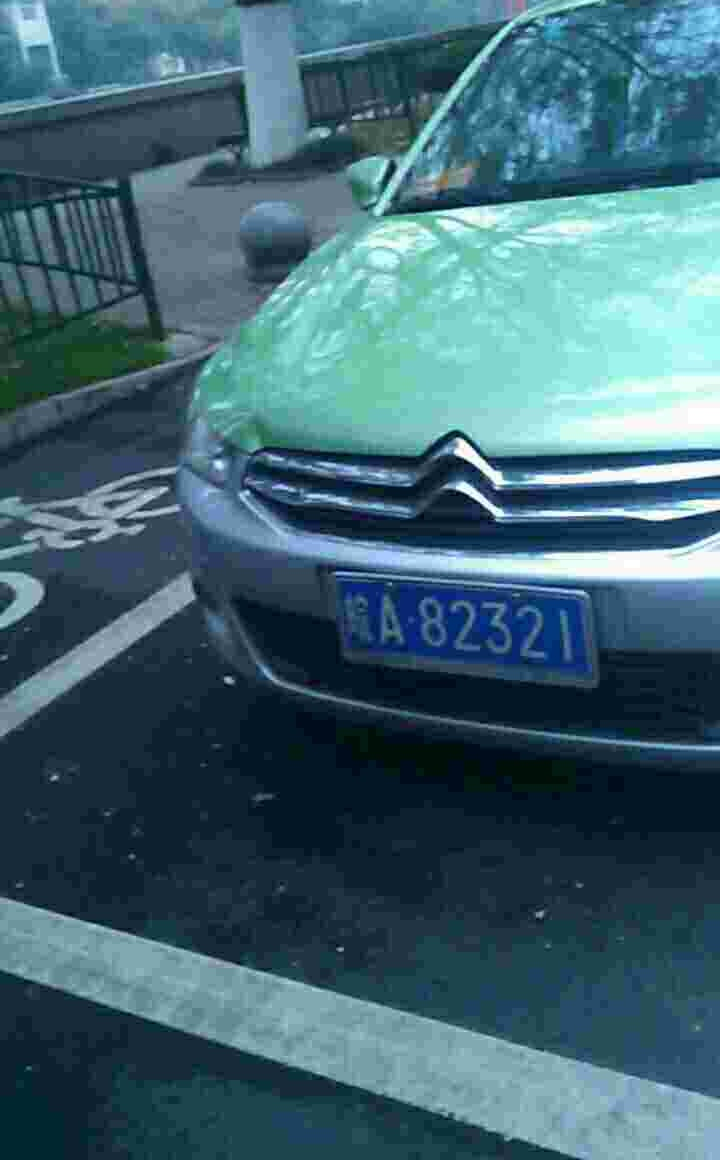license_plate: (329, 567, 590, 679)
